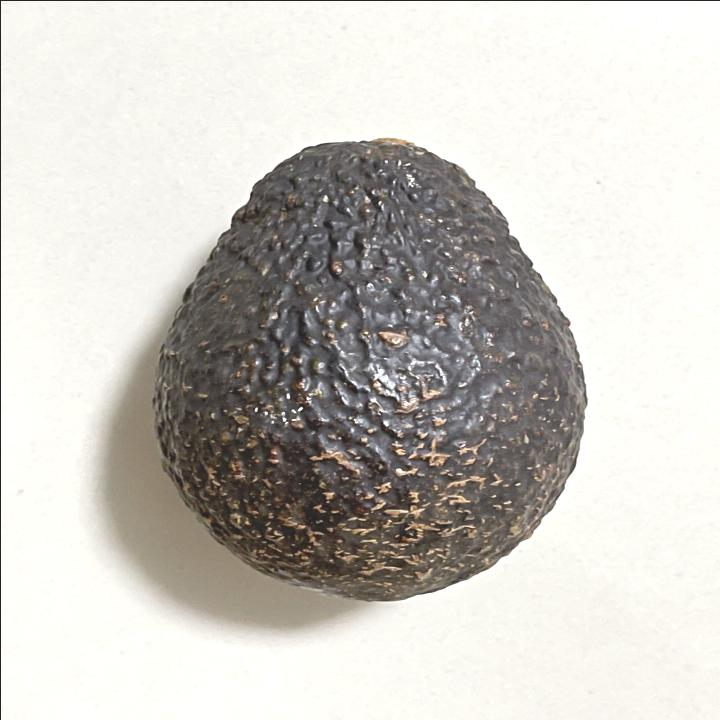Level2: (148, 130, 594, 608)
